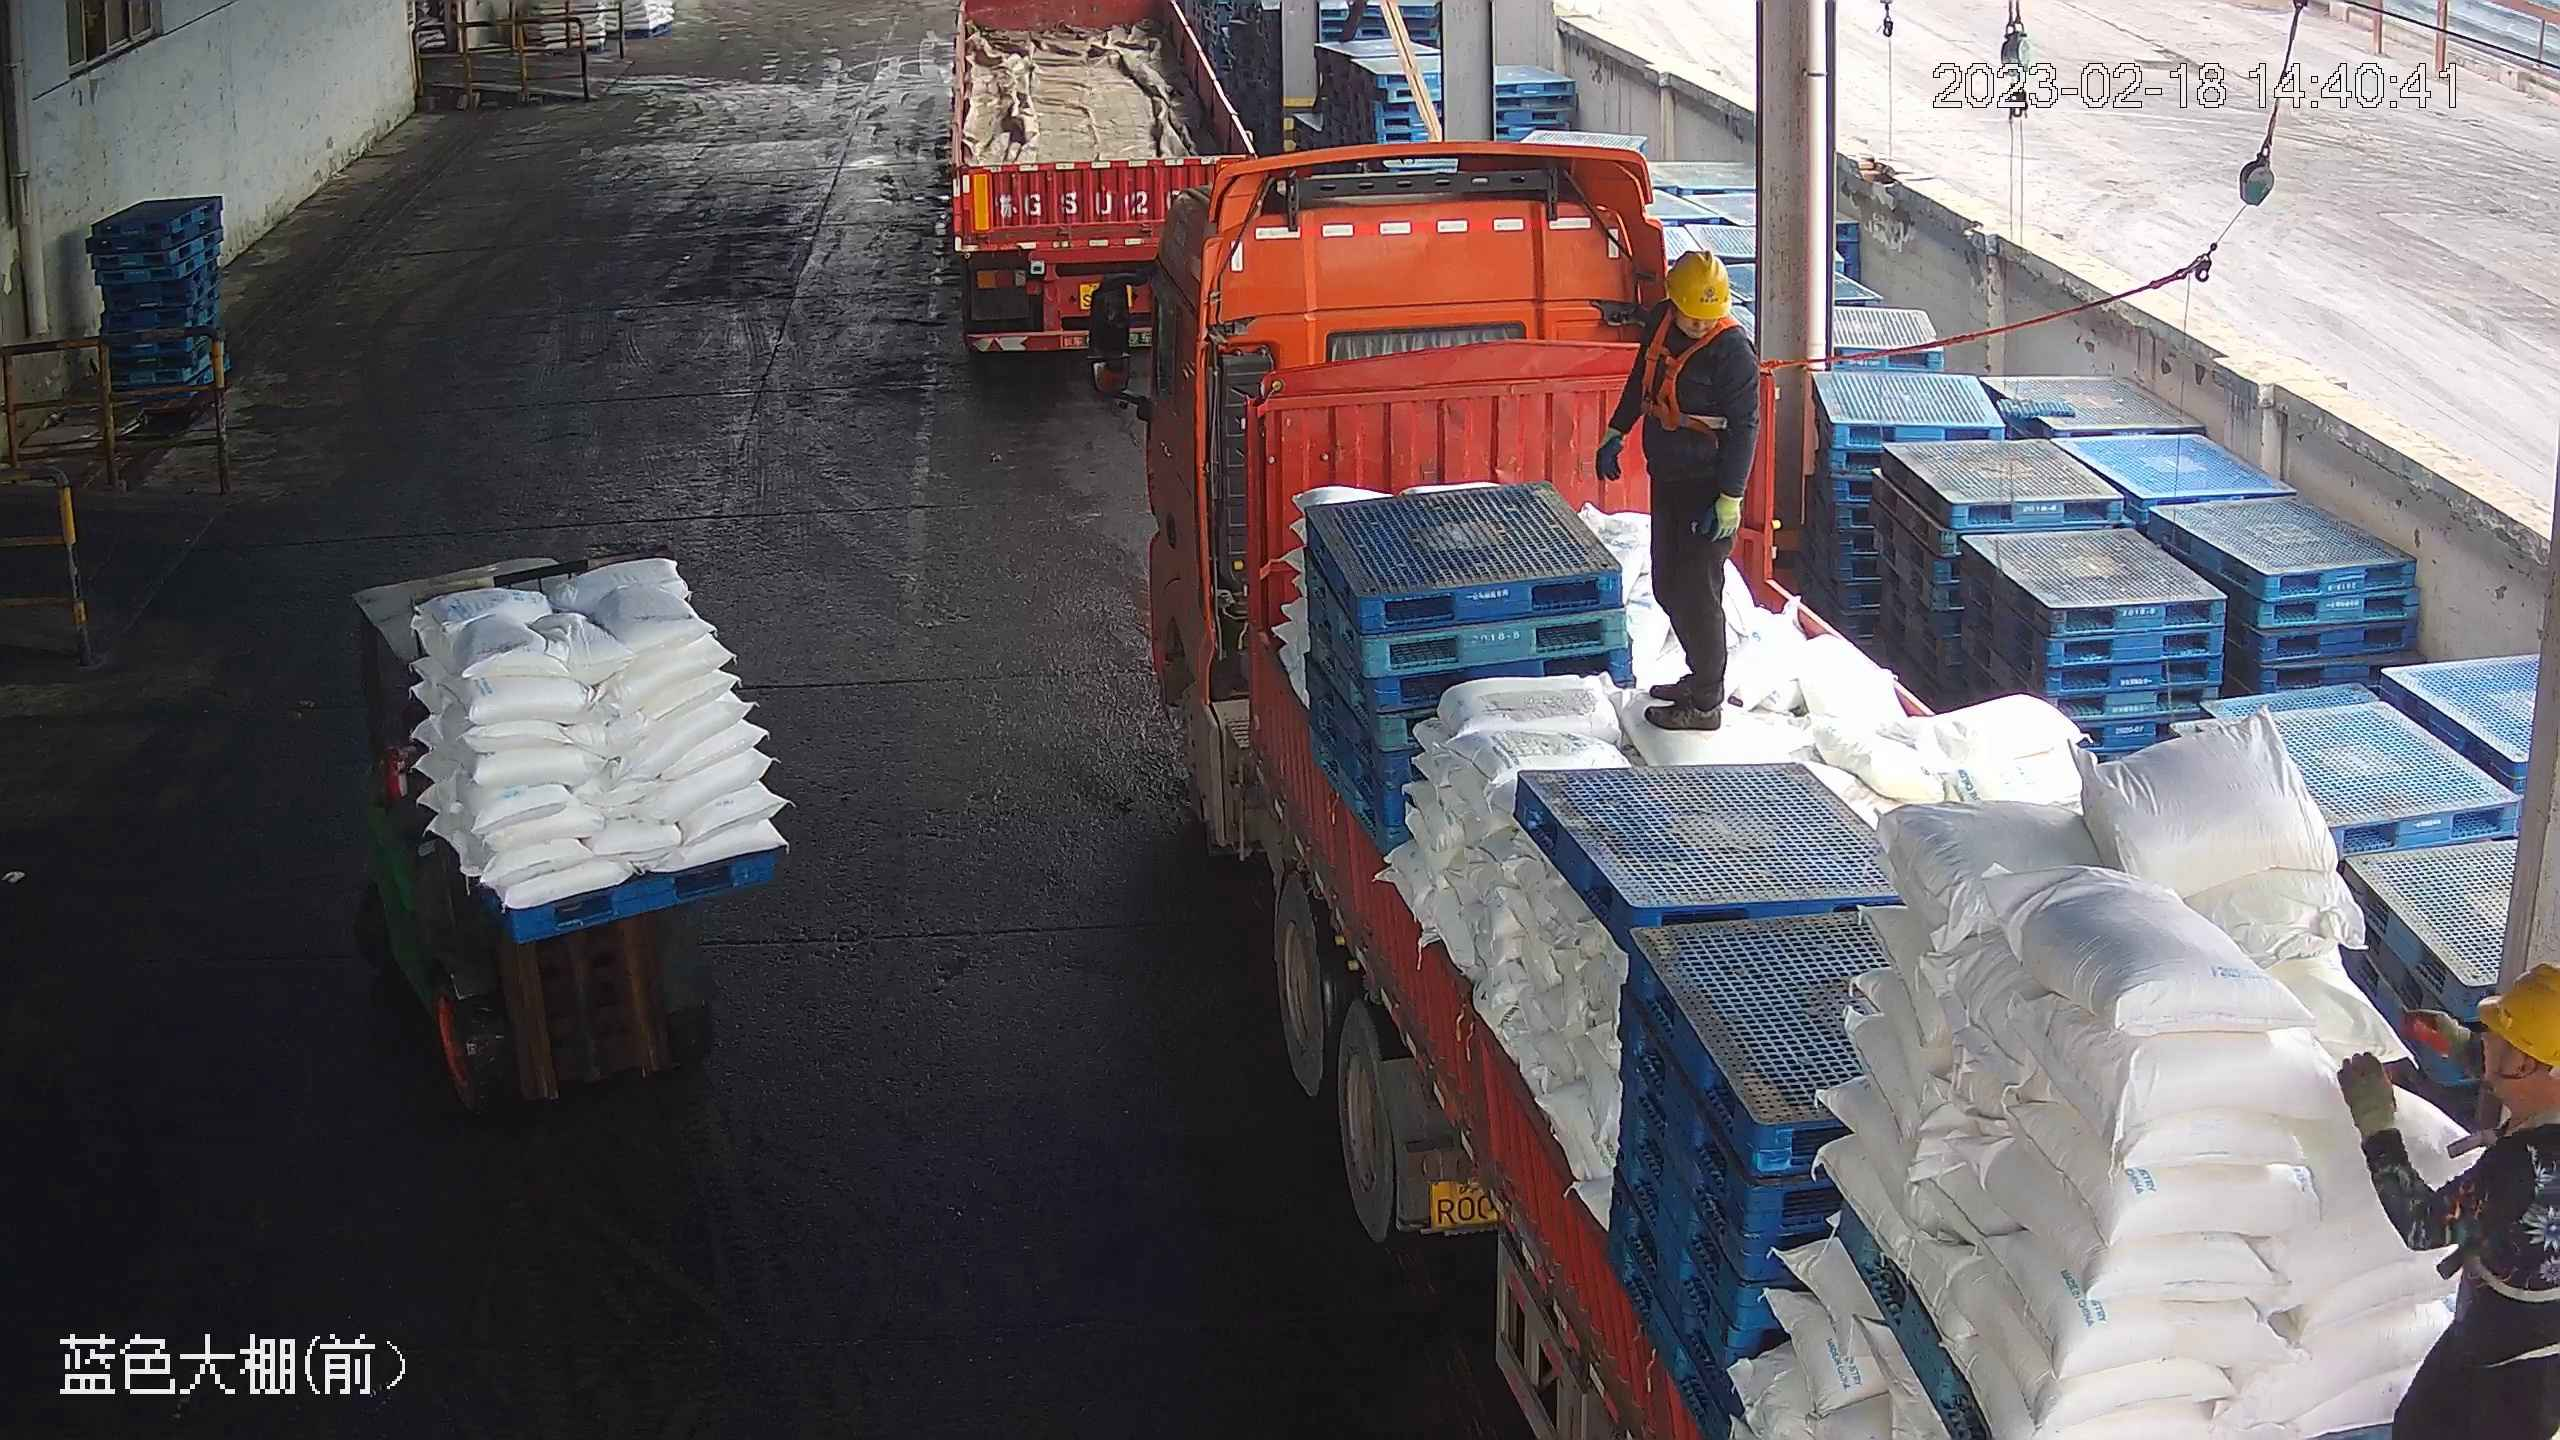belt: (2488, 1107, 2560, 1308), (1641, 318, 1758, 435)
head: (2459, 957, 2559, 1229), (1632, 245, 1759, 379)
helmet: (2476, 958, 2560, 1090), (1663, 245, 1735, 319)
people: (2335, 959, 2559, 1436), (1590, 247, 1768, 734)
truck: (1101, 144, 2557, 1440), (934, 1, 1272, 374)
